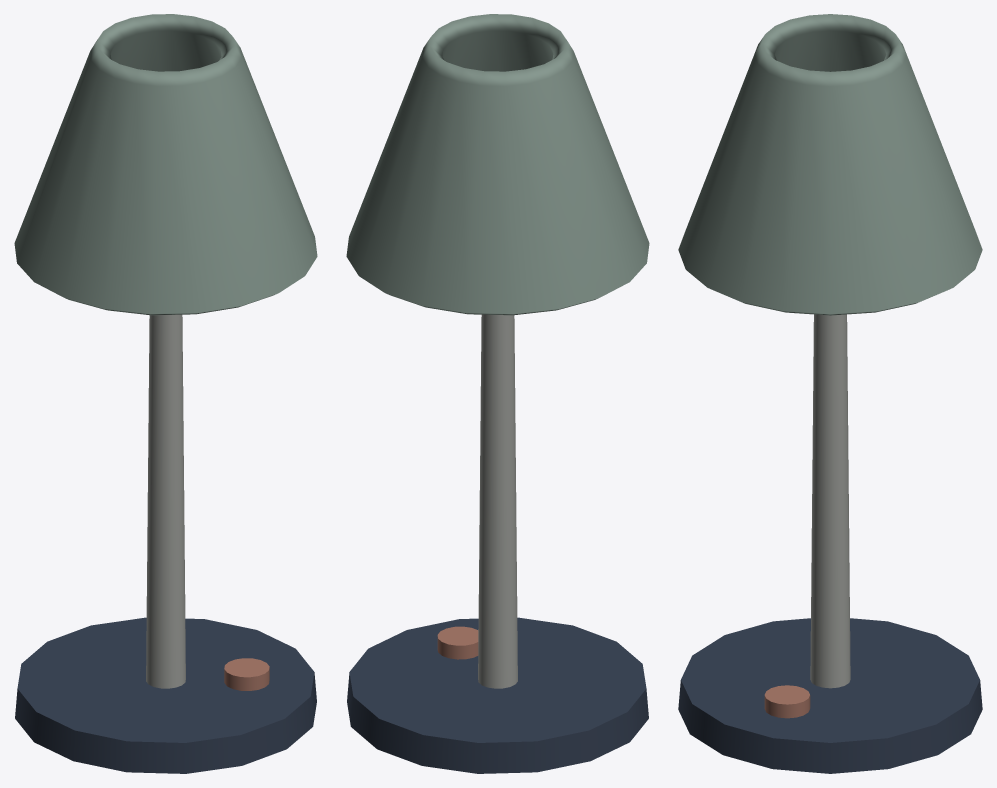
Rendered from room-desk-lamp.glb.
3 renders of one model, left to right at view 1: azimuth 30°, elevation 25°; view 2: azimuth 150°, elevation 25°; view 3: azimuth 270°, elevation 25°, orthographic.
Parts seen in each view (by area): view 1: sage, frame, trim, clay; view 2: sage, frame, trim, clay; view 3: sage, frame, trim, clay.
Part boxes in pixels (x1,y1,x2,y2): sage: (14,14,317,315); frame: (15,617,316,773); trim: (146,314,185,688); clay: (224,658,269,690); sage: (346,14,649,315); frame: (347,617,648,773); trim: (478,314,517,688); clay: (437,626,478,659); sage: (678,14,982,315); frame: (678,618,982,773); trim: (810,314,850,688); clay: (764,685,810,718).
Bounding box in the file's own units: 0.12 × 0.29 × 0.12.
